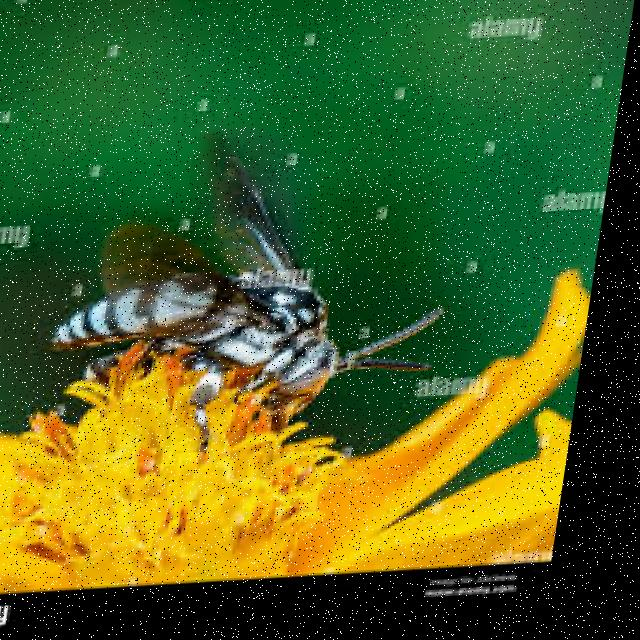Thyreus: (37, 114, 468, 452)
